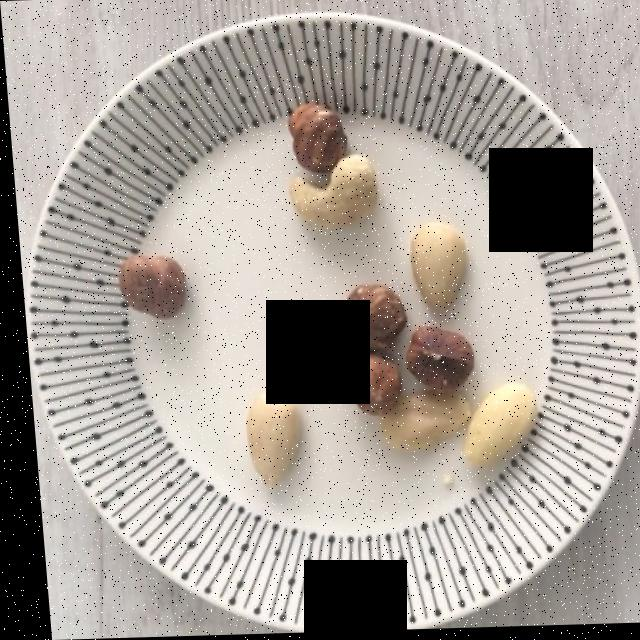mixed-nuts: (112, 112, 528, 485)
